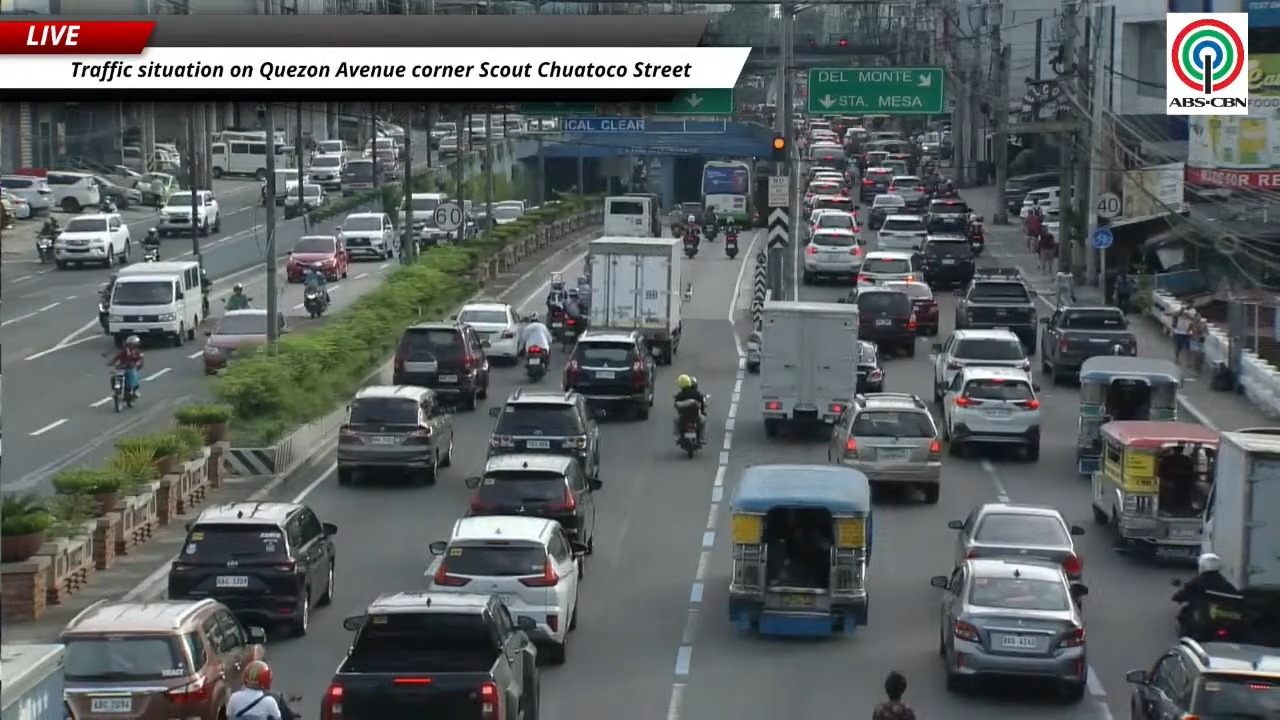bus: (701, 160, 752, 226), (209, 140, 266, 179)
car: (58, 598, 266, 719), (428, 516, 586, 663), (167, 502, 336, 635), (931, 558, 1087, 701), (465, 451, 601, 553), (1126, 637, 1279, 719), (828, 392, 940, 503), (336, 385, 453, 484), (948, 502, 1083, 580), (487, 388, 599, 479), (941, 366, 1040, 461), (393, 321, 489, 409), (563, 330, 655, 419), (931, 329, 1031, 401), (847, 285, 918, 356), (53, 213, 131, 269), (202, 308, 267, 374), (456, 301, 524, 363), (802, 228, 862, 284), (879, 281, 938, 335), (286, 235, 349, 282), (157, 190, 220, 236), (338, 212, 397, 260), (922, 234, 975, 287), (44, 171, 100, 212), (1006, 171, 1060, 213), (857, 252, 921, 286), (0, 175, 53, 213), (307, 141, 346, 191), (876, 214, 927, 252), (91, 175, 142, 209), (132, 172, 180, 207), (283, 182, 327, 218), (925, 197, 970, 232), (856, 340, 885, 393), (342, 158, 384, 194), (1019, 185, 1060, 219), (808, 209, 860, 235), (868, 193, 904, 230), (811, 190, 858, 217), (888, 175, 926, 207), (859, 166, 893, 201), (803, 180, 841, 209), (491, 200, 526, 225), (0, 192, 32, 218), (362, 136, 399, 158), (376, 150, 402, 181), (314, 139, 351, 157), (810, 168, 846, 186), (806, 164, 842, 181), (437, 134, 460, 157), (863, 149, 887, 168)
motorcycle: (1175, 602, 1257, 642), (675, 399, 703, 457), (111, 368, 135, 412), (525, 346, 547, 381), (304, 289, 327, 318), (562, 317, 582, 350), (746, 330, 761, 373), (36, 235, 53, 264), (548, 311, 565, 339), (969, 228, 985, 257), (223, 295, 251, 311), (724, 232, 738, 259), (683, 234, 698, 258), (98, 301, 108, 334), (702, 223, 718, 240), (99, 198, 117, 213), (143, 245, 159, 261), (202, 292, 209, 317)
truck: (321, 591, 538, 719), (759, 300, 859, 436), (588, 236, 690, 364), (1202, 431, 1279, 596), (1040, 305, 1136, 383), (954, 267, 1038, 355), (0, 643, 71, 719)
